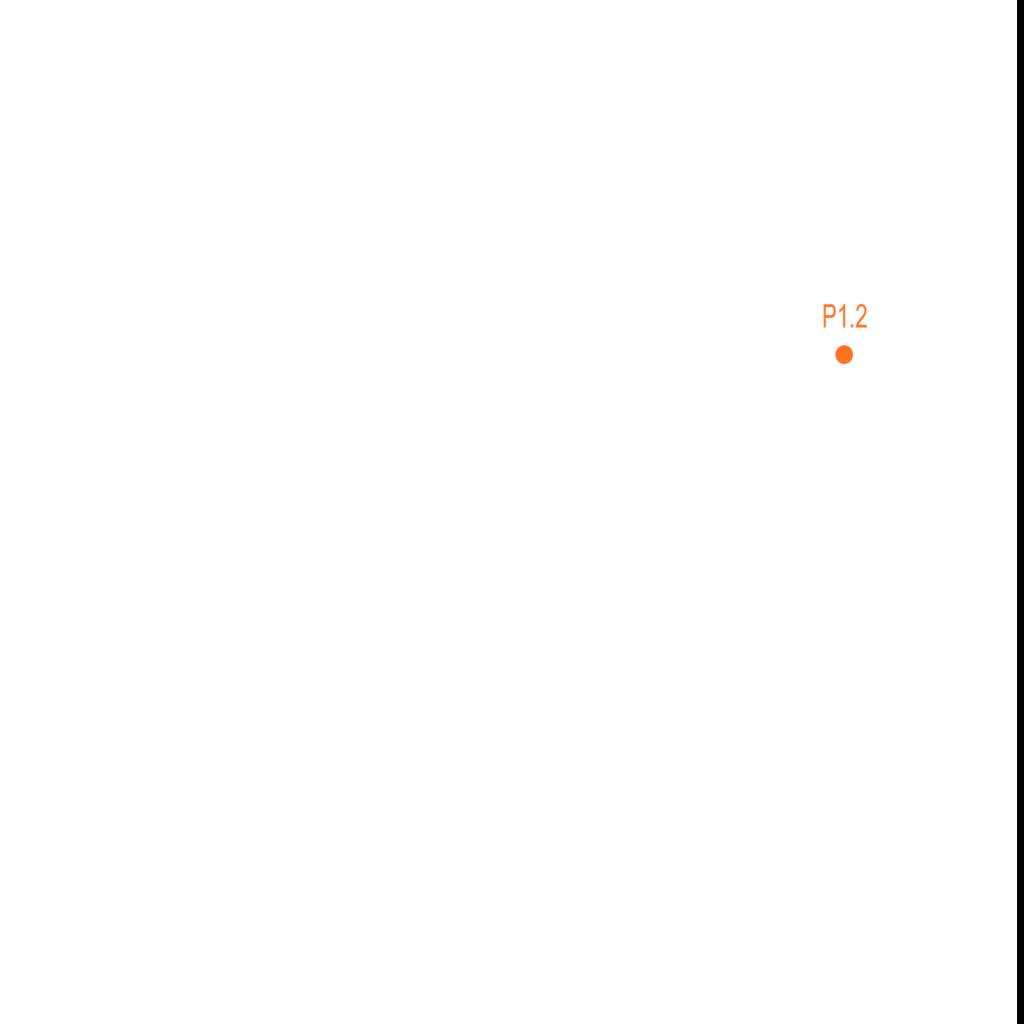Downlight_LED_Einbauleuchten_Flur: (822, 302, 868, 366)
